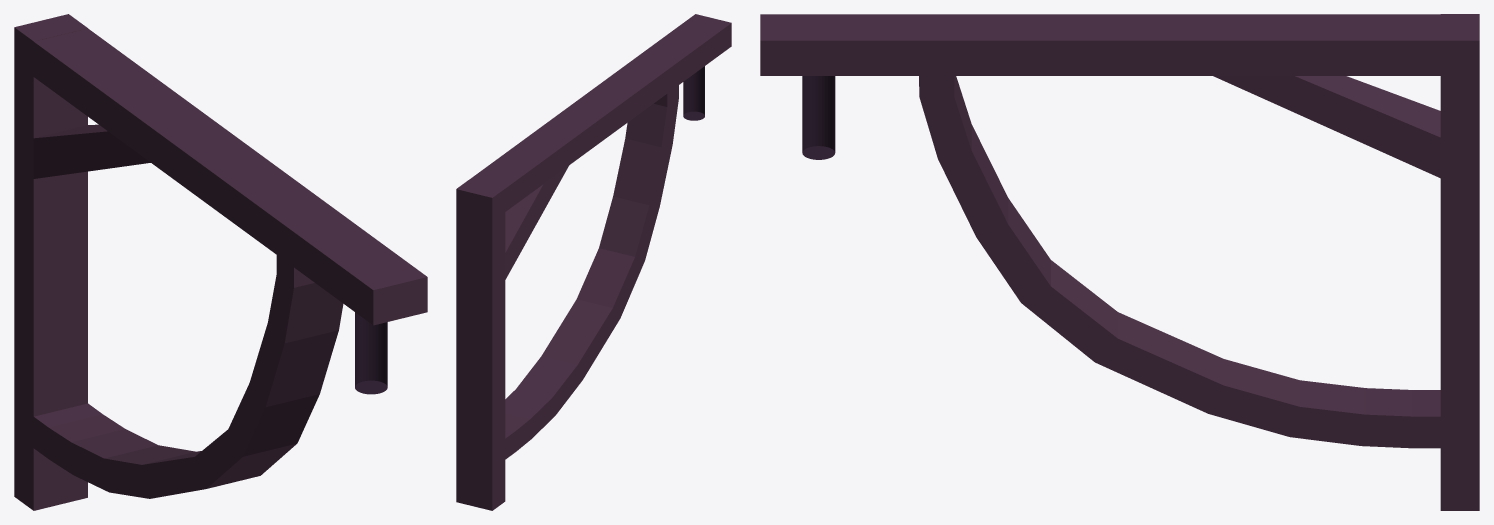
The model's file is support.fbx.
3 renders of one model, left to right at view 1: azimuth 30°, elevation 25°; view 2: azimuth 150°, elevation 25°; view 3: azimuth 270°, elevation 25°, orthographic. The views are drawn at different scales.
Visible parts, largest first — view 1: Cube; view 2: Cube; view 3: Cube.
Part boxes in pixels (<box>): Cube: <box>14,14,427,510</box>; Cube: <box>456,14,731,510</box>; Cube: <box>760,14,1479,510</box>.
Size of the model in its own units: 55.28 by 456 by 633.
